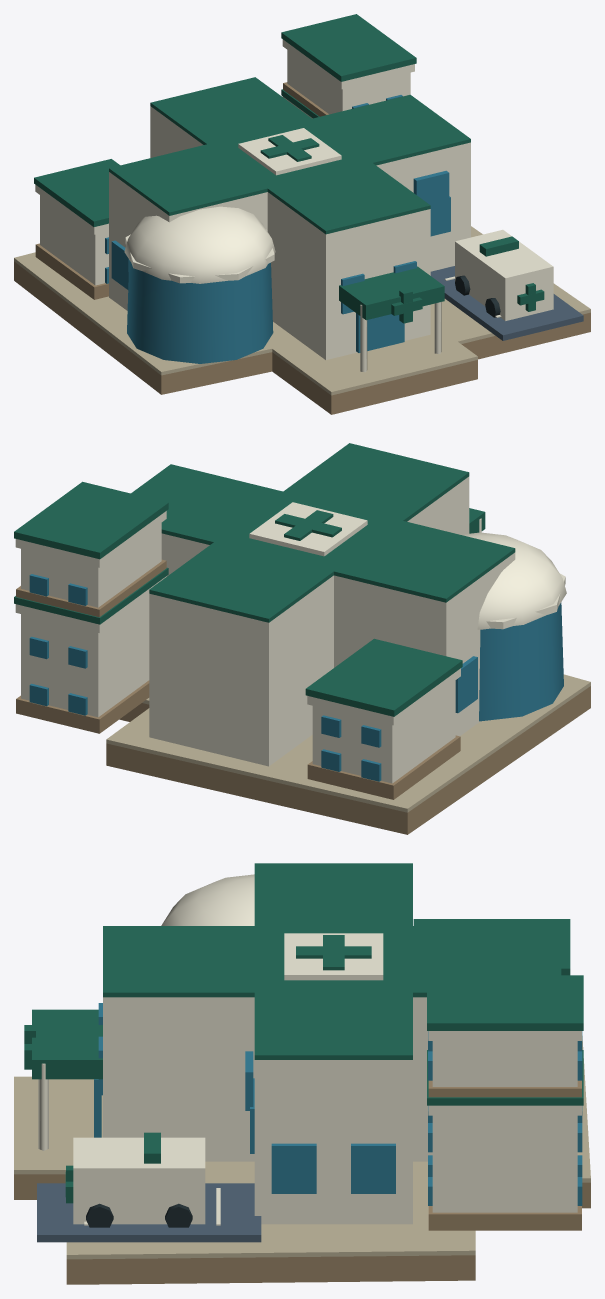
File: medical-center-lv4.glb
3 renders of one model, top to bottom at view 1: azimuth 30°, elevation 25°; view 2: azimuth 150°, elevation 25°; view 3: azimuth 270°, elevation 25°, orthographic. The views are drawn at different scales.
Visible parts, largest first — view 1: cross_clinic_jade, cross_clinic_white, foundation_paving, diagnostics_rotunda_glass, foundation_stoneDark, diagnostics_dome_white, ambulance_white, inpatient_upper_floor_roof_jade, inpatient_upper_floor_white, inpatient_wing_white, entry_canopy_jade, inpatient_wing_roof_jade (+11 smaller); view 2: cross_clinic_white, cross_clinic_jade, foundation_stoneDark, diagnostics_wing_white, foundation_paving, inpatient_wing_white, diagnostics_rotunda_glass, inpatient_wing_roof_jade, inpatient_upper_floor_roof_jade, inpatient_upper_floor_white, diagnostics_dome_white, roof_mark_white (+9 smaller); view 3: cross_clinic_white, cross_clinic_jade, foundation_paving, diagnostics_wing_white, foundation_stoneDark, ambulance_white, inpatient_upper_floor_roof_jade, inpatient_upper_floor_white, ambulance_lane_slate, entry_canopy_jade, side_clinic_windows_glass, diagnostics_dome_white (+10 smaller).
Boxes of the visible parts, box(x1,y1,x2,y2) form: cross_clinic_jade: box(109, 77, 470, 234); cross_clinic_white: box(109, 106, 470, 359); foundation_paving: box(14, 226, 590, 395); diagnostics_rotunda_glass: box(127, 260, 273, 363); foundation_stoneDark: box(14, 261, 590, 414); diagnostics_dome_white: box(124, 206, 275, 283); ambulance_white: box(455, 229, 553, 320); inpatient_upper_floor_roof_jade: box(281, 14, 416, 81); inpatient_upper_floor_white: box(282, 39, 414, 114); inpatient_wing_white: box(35, 184, 108, 285); entry_canopy_jade: box(339, 266, 444, 320); inpatient_wing_roof_jade: box(34, 159, 120, 226); cross_clinic_white: box(149, 476, 515, 766); cross_clinic_jade: box(131, 443, 515, 622); foundation_stoneDark: box(106, 686, 590, 834); diagnostics_wing_white: box(15, 576, 166, 717); foundation_paving: box(106, 674, 590, 812); inpatient_wing_white: box(307, 668, 460, 783); diagnostics_rotunda_glass: box(479, 602, 563, 721); inpatient_wing_roof_jade: box(305, 638, 462, 716); inpatient_upper_floor_roof_jade: box(14, 481, 168, 559); inpatient_upper_floor_white: box(15, 511, 166, 607); diagnostics_dome_white: box(460, 532, 566, 629); roof_mark_white: box(249, 502, 367, 556); cross_clinic_white: box(103, 997, 432, 1224); cross_clinic_jade: box(103, 863, 561, 1059); foundation_paving: box(14, 1036, 590, 1259); diagnostics_wing_white: box(428, 1105, 581, 1212); foundation_stoneDark: box(14, 1174, 590, 1284); ambulance_white: box(73, 1137, 205, 1224); inpatient_upper_floor_roof_jade: box(427, 975, 583, 1030); inpatient_upper_floor_white: box(428, 1031, 581, 1086); ambulance_lane_slate: box(37, 1183, 261, 1242); entry_canopy_jade: box(32, 1009, 102, 1079); side_clinic_windows_glass: box(271, 1143, 395, 1193); diagnostics_dome_white: box(161, 874, 254, 925).
Bounding box in the file's own units: 1 × 0.45 × 0.9887.
